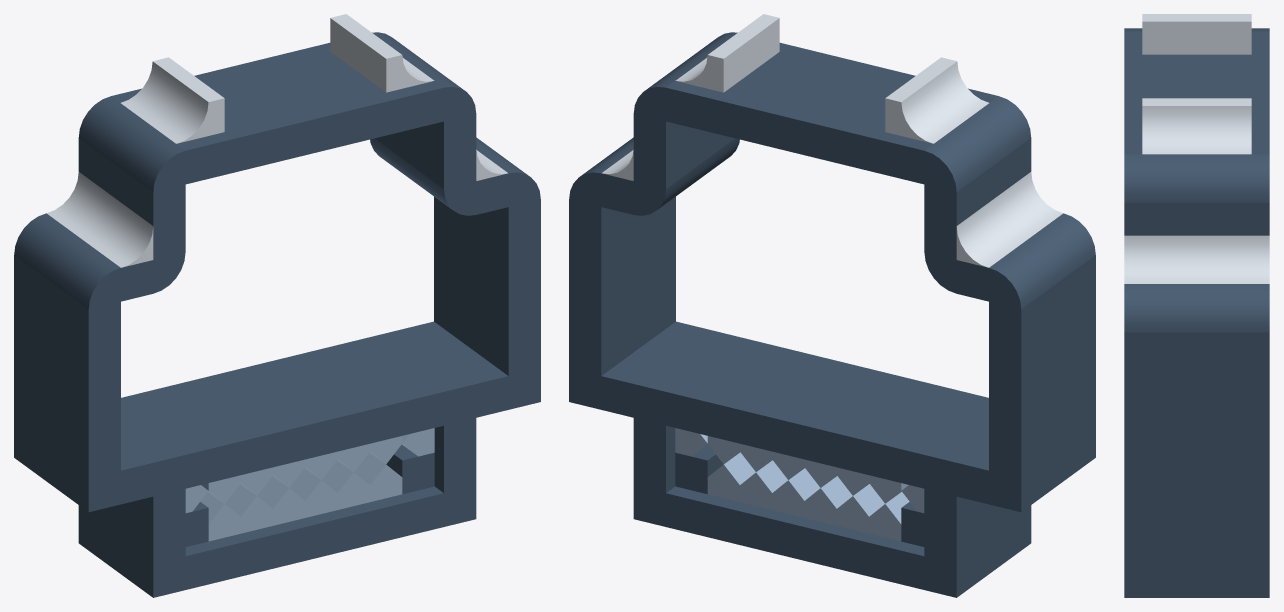
The model's file is devilFace.glb.
3 views of the same model, side by side, from view 1: azimuth 30°, elevation 25°; view 2: azimuth 150°, elevation 25°; view 3: azimuth 270°, elevation 25° (orthographic). The views are drawn at different scales.
Visible parts, largest first — view 1: generated(Clone); view 2: generated(Clone); view 3: generated(Clone).
Boxes of the visible parts, bbox=[...] form: generated(Clone): bbox=[14, 14, 540, 597]; generated(Clone): bbox=[569, 14, 1095, 597]; generated(Clone): bbox=[1124, 14, 1269, 597].
Bounding box in the file's own units: 14 × 14 × 4.
